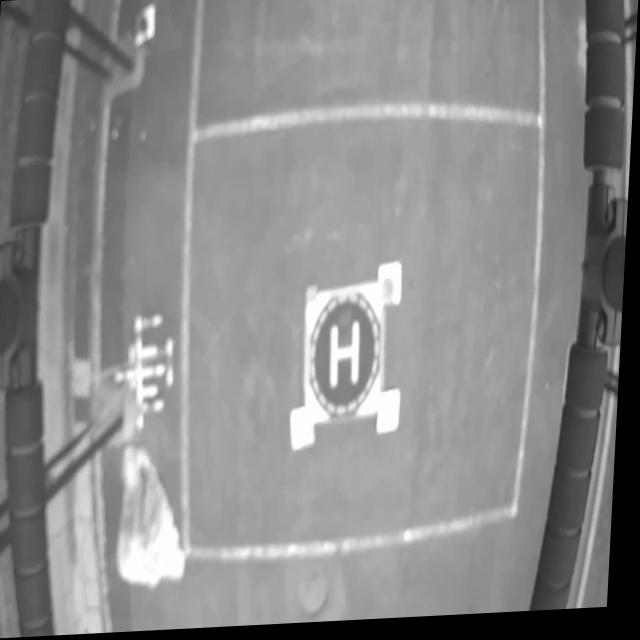Helipad: (333, 322, 363, 394)
